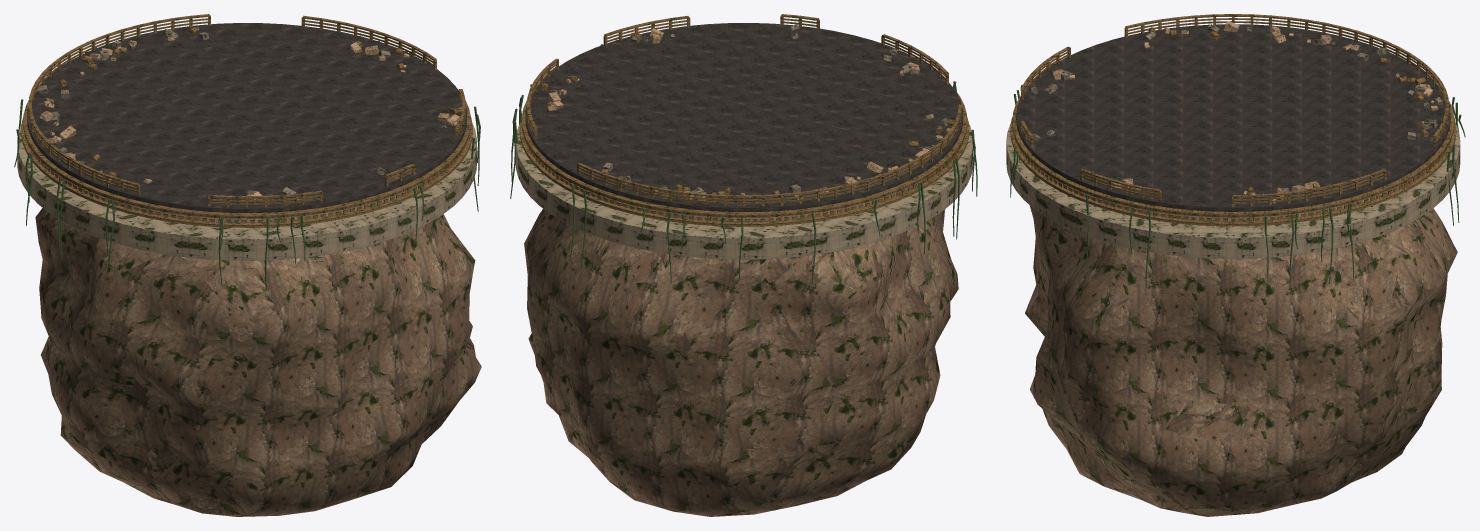
The model's file is Room_Arena.fbx.
3 views of the same model, side by side, from view 1: azimuth 30°, elevation 25°; view 2: azimuth 150°, elevation 25°; view 3: azimuth 270°, elevation 25° (orthographic).
Parts seen in each view (by area): view 1: Arena_Rock_LOD0, Arena_Structure_LOD0; view 2: Arena_Rock_LOD0, Arena_Structure_LOD0; view 3: Arena_Rock_LOD0, Arena_Structure_LOD0.
Boxes of the visible parts, bbox=[...] form: Arena_Rock_LOD0: bbox=[35, 208, 481, 516]; Arena_Structure_LOD0: bbox=[14, 14, 480, 289]; Arena_Rock_LOD0: bbox=[524, 209, 958, 516]; Arena_Structure_LOD0: bbox=[510, 14, 977, 284]; Arena_Rock_LOD0: bbox=[1025, 205, 1457, 516]; Arena_Structure_LOD0: bbox=[1006, 14, 1465, 288].
Size of what is drawn, in the model's own units: 46.88 by 41.18 by 46.54.
